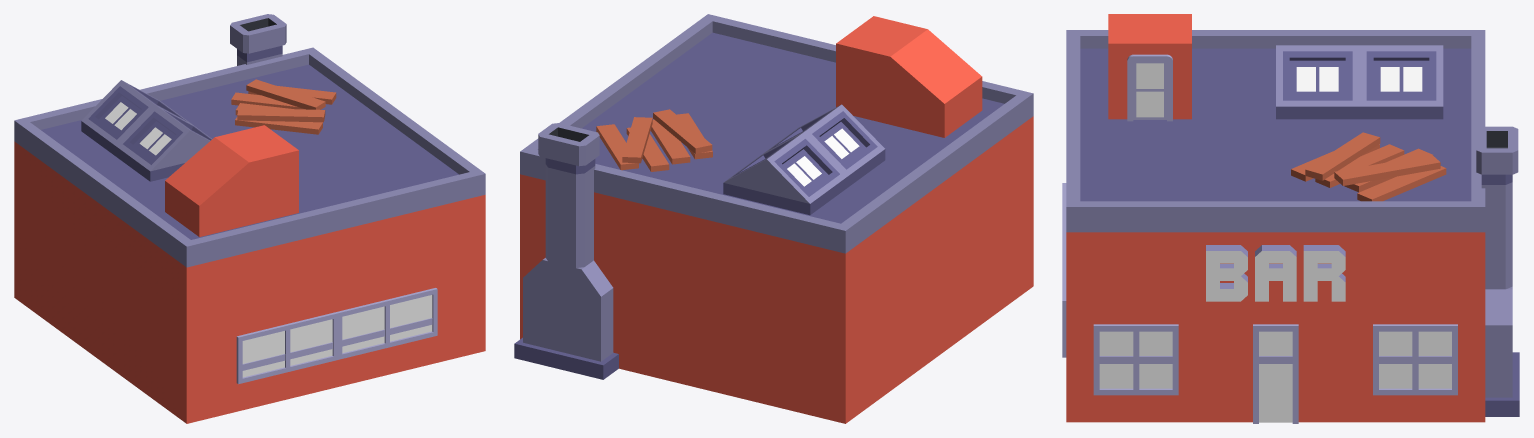
The model's file is Building_07.fbx.
The picture shows the model from 3 angles, left to right: view 1: azimuth 30°, elevation 25°; view 2: azimuth 150°, elevation 25°; view 3: azimuth 270°, elevation 25°; orthographic projection. The views are drawn at different scales.
Parts seen in each view (by area): view 1: mergedBlocks; view 2: mergedBlocks; view 3: mergedBlocks.
Boxes of the visible parts, box(x1,y1,x2,y2) form: mergedBlocks: box(14, 14, 485, 423); mergedBlocks: box(514, 14, 1033, 423); mergedBlocks: box(1062, 14, 1519, 423).
Bounding box in the file's own units: 155 × 110 × 164.
